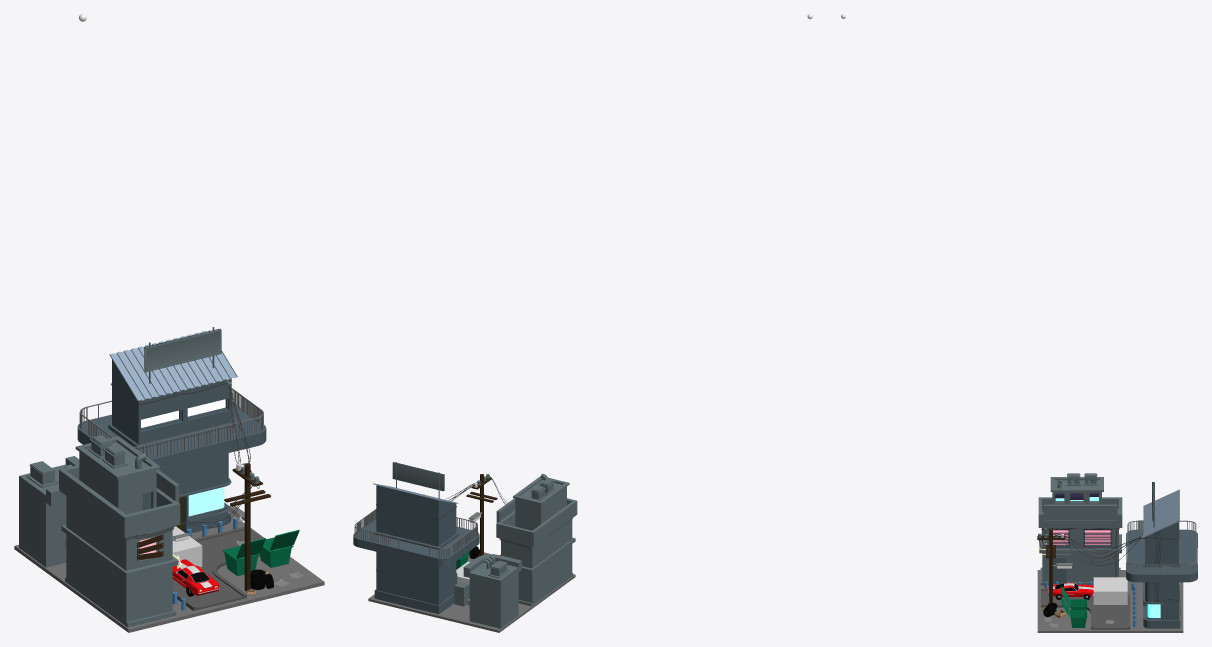
Rendered from cyber.fbx.
3 views of the same model, side by side, from view 1: azimuth 30°, elevation 25°; view 2: azimuth 150°, elevation 25°; view 3: azimuth 270°, elevation 25° (orthographic). The views are drawn at different scales.
Parts seen in each view (by area): view 1: house2, house1, osnova, larek, Plane.005, house1.001, Cube.007, Circle.005, Cube.006, Cylinder.003, Cube, Cube.014 (+3 smaller); view 2: house1, house2, larek, osnova, house1.001, Cube.007; view 3: house2, house1, osnova, Cube.010, Plane.005, Cube, house1.001, Circle.005, Cylinder.006.
Part boxes in pixels (x1,y1,x2,y2): house2: (59,436,180,627); house1: (77,359,266,532); osnova: (14,515,324,632); larek: (19,456,79,567); Plane.005: (109,330,237,401); house1.001: (79,388,263,458); Cube.007: (144,328,221,372); Circle.005: (172,559,219,596); Cube.006: (61,524,178,577); Cylinder.003: (244,463,250,591); Cube: (172,526,202,566); Cube.014: (259,537,293,567); house1: (353,485,479,614); house2: (496,476,577,606); larek: (463,554,521,628); osnova: (368,552,575,632); house1.001: (354,509,477,558); Cube.007: (392,462,444,491); house2: (1038,477,1122,585); house1: (1126,521,1197,628); osnova: (1037,570,1183,632); Cube.010: (1044,504,1117,522); Plane.005: (1143,489,1179,537); Cube: (1093,577,1127,604); house1.001: (1127,520,1196,573); Circle.005: (1048,582,1093,599); Cylinder.006: (1083,529,1112,547).
Bounding box in the file's own units: 1782 × 3290 × 2085.
